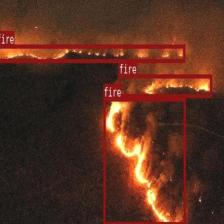fire: (103, 96, 185, 224), (0, 44, 185, 62), (119, 75, 212, 98)
